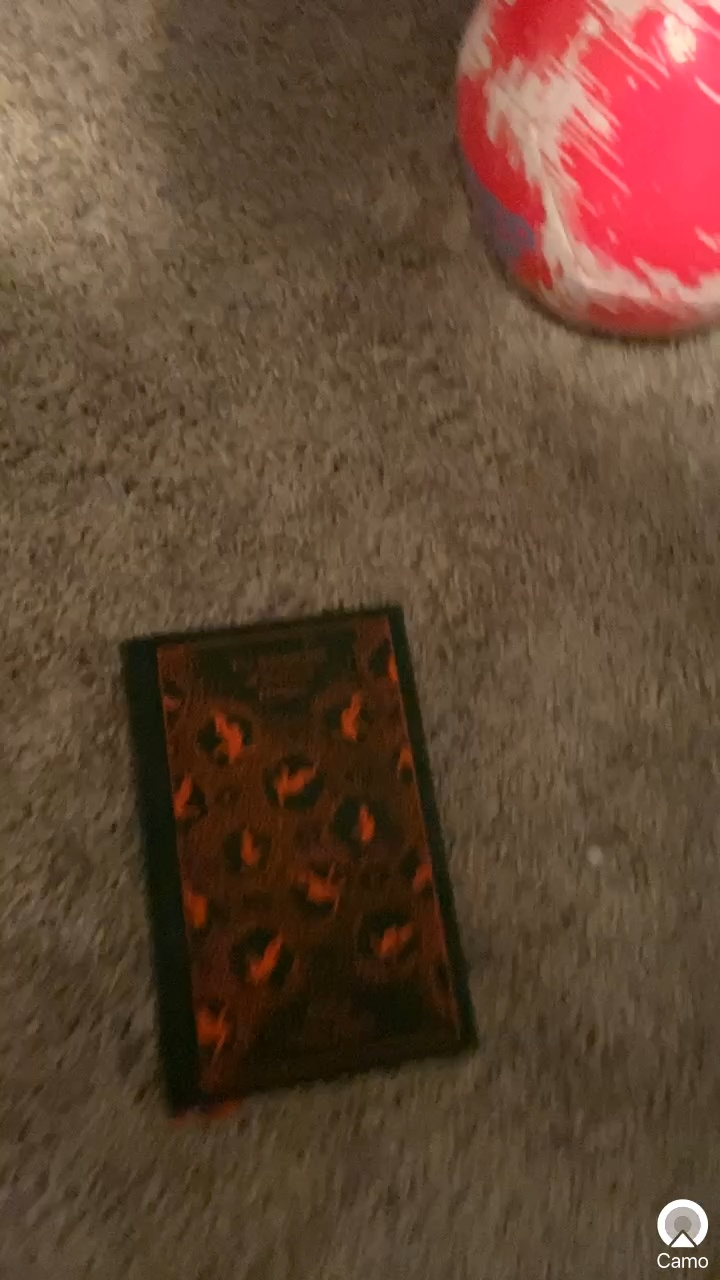Book: (102, 604, 507, 1118)
